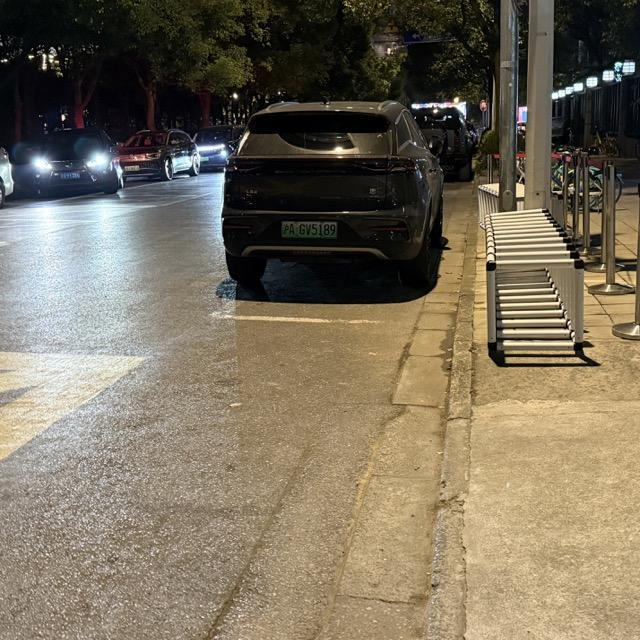curb: (420, 197, 477, 639)
